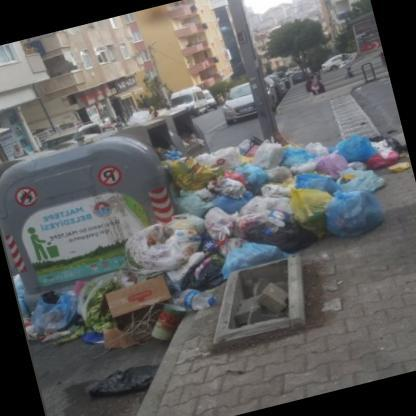Garbage: (200, 131, 397, 289), (134, 254, 230, 342), (112, 208, 218, 276), (223, 197, 321, 270), (73, 269, 149, 345), (304, 178, 381, 246), (19, 284, 84, 348), (72, 370, 162, 416), (158, 154, 210, 204), (194, 202, 242, 252), (328, 130, 382, 170), (287, 143, 345, 179), (249, 137, 292, 171), (234, 162, 271, 198), (256, 160, 288, 190), (166, 144, 182, 163), (184, 138, 204, 150)
